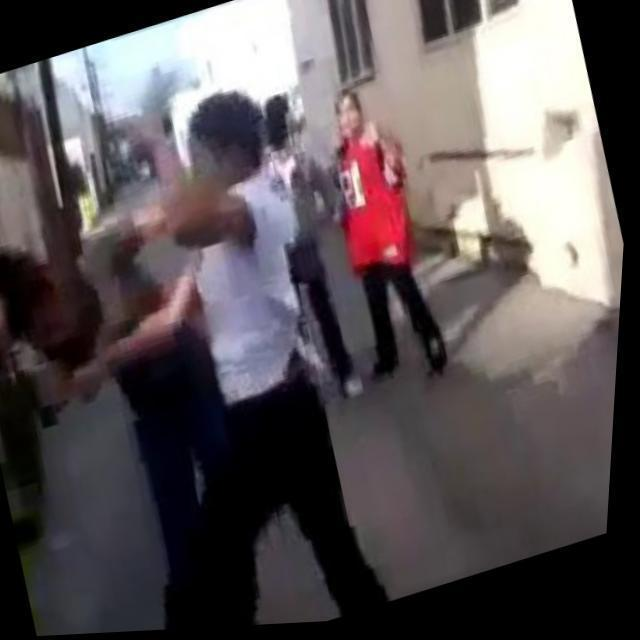fight: (34, 75, 418, 638)
